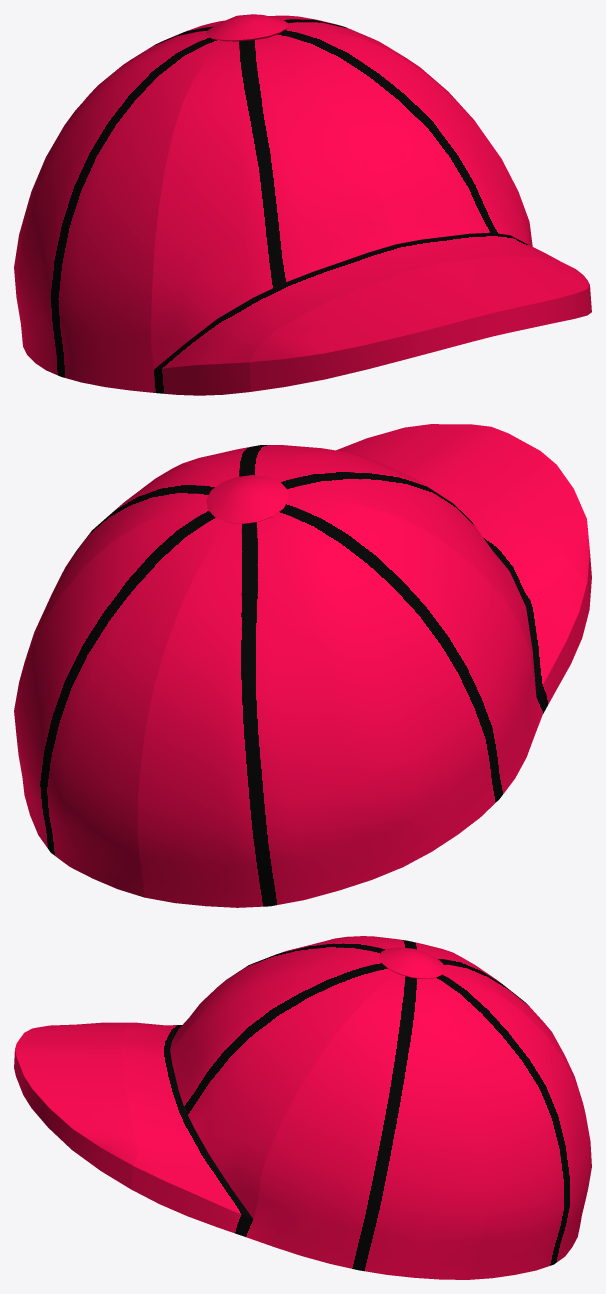
File: hat_1.glb
The picture shows the model from 3 angles, top to bottom: view 1: azimuth 30°, elevation 25°; view 2: azimuth 150°, elevation 25°; view 3: azimuth 270°, elevation 25°; orthographic projection. The views are drawn at different scales.
Visible parts, largest first — view 1: Cap; view 2: Cap; view 3: Cap.
Boxes of the visible parts, left/top/right/bottom form: Cap: left=14, top=14, right=591, bottom=395; Cap: left=14, top=424, right=591, bottom=907; Cap: left=14, top=936, right=591, bottom=1279.
Bounding box in the file's own units: 57.74 × 42.22 × 80.85.
Materials: 1 (1 with a texture image).
